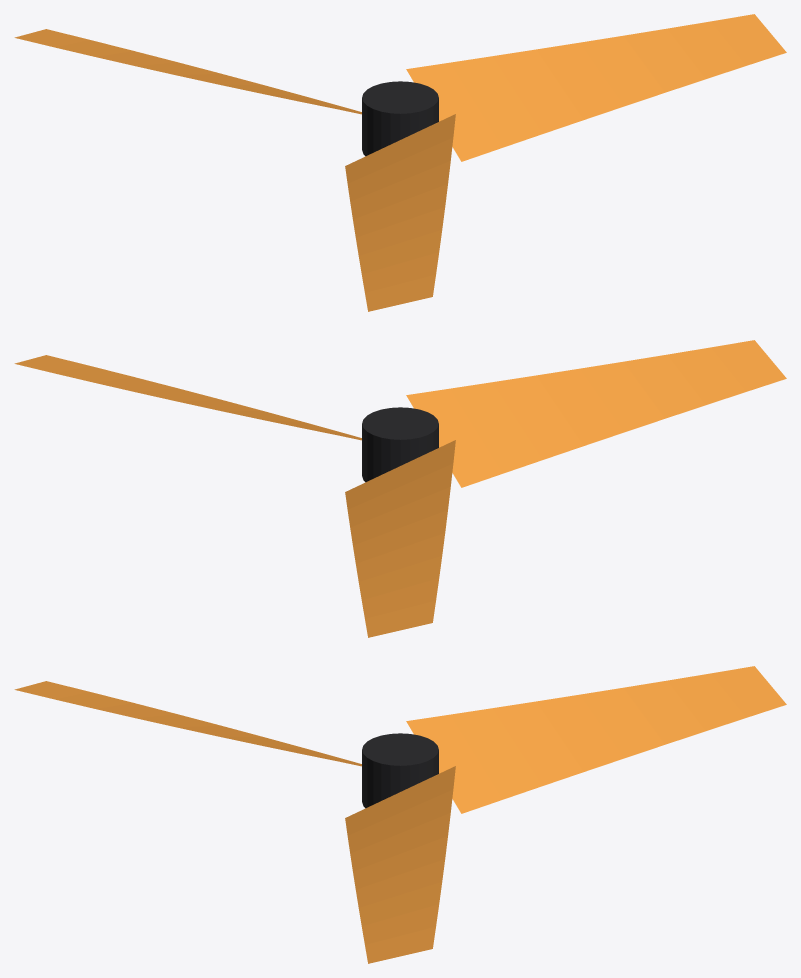
Rendered from Prop_3Blade.glb.
3 views of the same model, one above another, from view 1: azimuth 30°, elevation 25°; view 2: azimuth 150°, elevation 25°; view 3: azimuth 270°, elevation 25° (orthographic).
Parts seen in each view (by area): view 1: Blade0, Blade2, Hub, Blade1; view 2: Blade2, Blade1, Hub, Blade0; view 3: Blade1, Blade0, Hub, Blade2.
Boxes of the visible parts, <box> form: Blade0: <box>406,14,786,161</box>; Blade2: <box>345,114,455,311</box>; Hub: <box>362,81,438,156</box>; Blade1: <box>14,29,361,114</box>; Blade2: <box>406,340,786,487</box>; Blade1: <box>345,440,455,637</box>; Hub: <box>362,407,438,482</box>; Blade0: <box>14,355,361,440</box>; Blade1: <box>406,666,786,813</box>; Blade0: <box>345,766,455,963</box>; Hub: <box>362,733,438,808</box>; Blade2: <box>14,681,361,766</box>.
Size of the model in its own units: 0.1393 by 0.012 by 0.1609.
